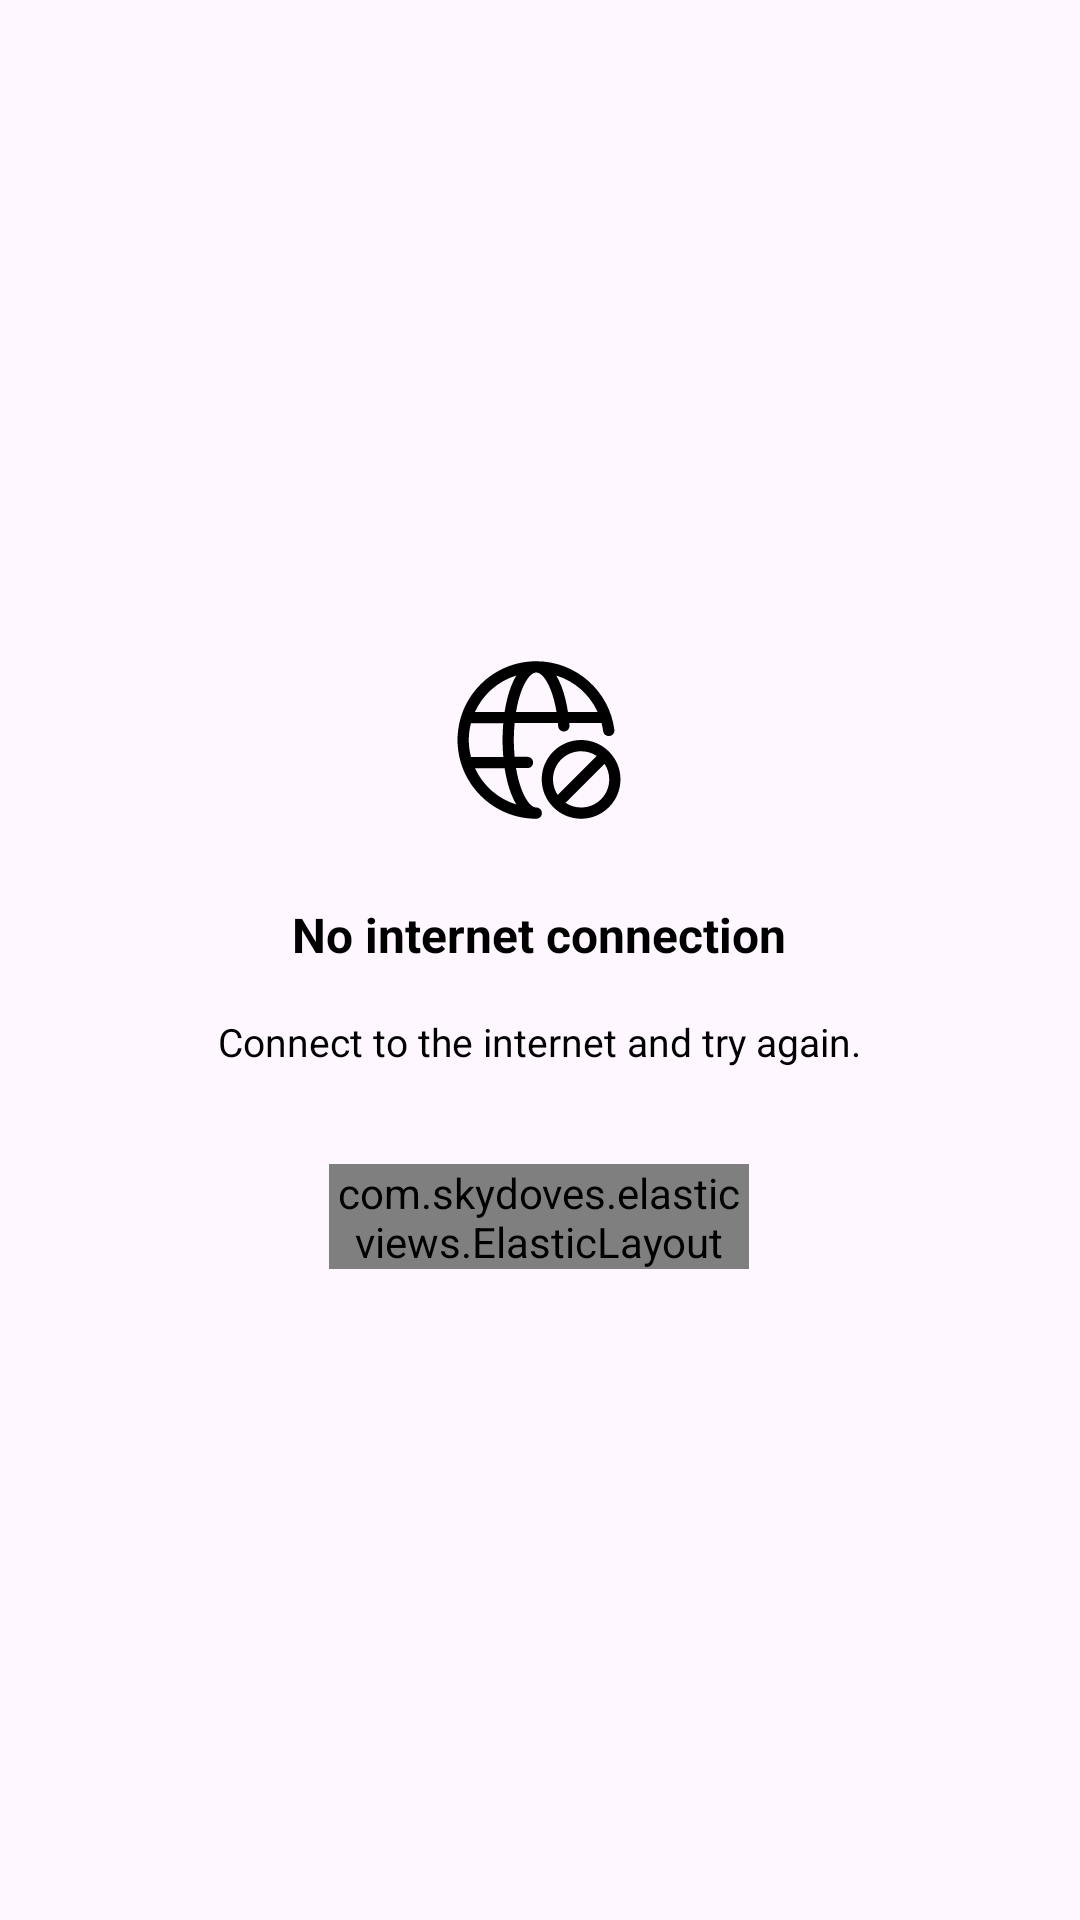

Point at icon controls on the screen. Image size 1080 × 1920, points as (x,y).
no network: (539,740)
